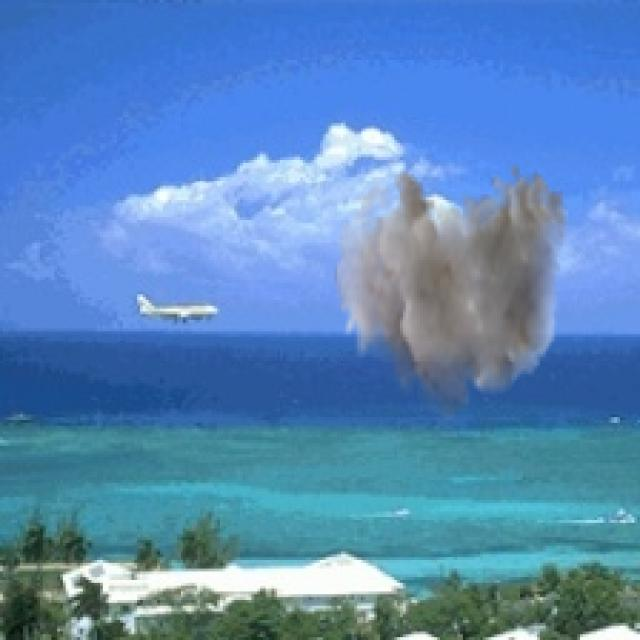smoke: (334, 163, 569, 426)
